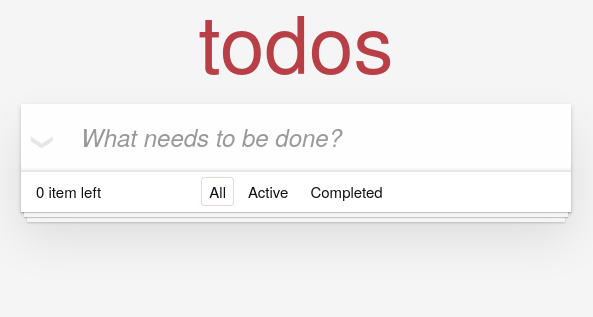
Test: 添加任务 › 在输入框中输入内容敲回车,应该添加任务到列表中,输入框内容应该被清空
Type "hello world" into the field with test id "new-todo" at (296,137), box [21,104,571,170]
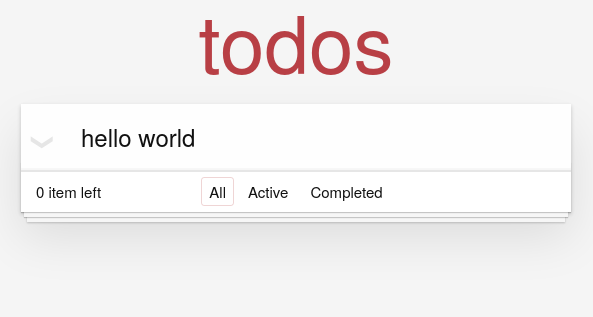
Press Enter in the field with test id "new-todo", box [21,104,571,170]
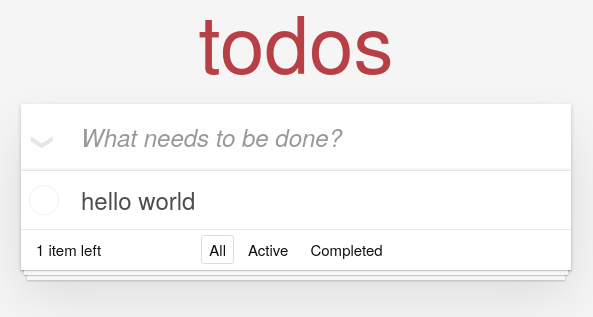
Expected: the list item with test id "todo-item" is shown, [21,171,571,229]
Expected: the label with test id "todo-text" reads "hello world", [81,182,196,217]
Expected: the field with test id "new-todo" is empty, [21,104,571,170]
